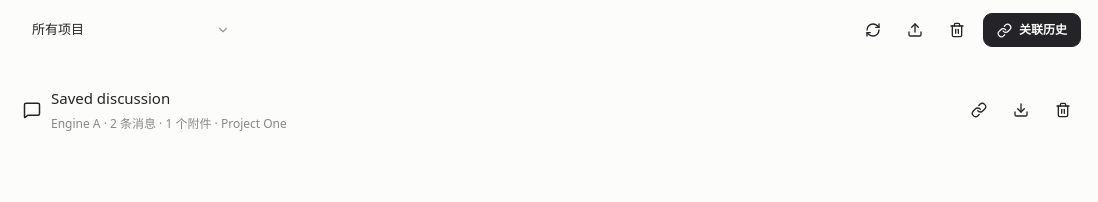
Scenario: filters the archive library through the custom picker with keyboard selection
Expected: the button "Saved discussion" is shown, left=51, top=87, right=170, bottom=110
Click the dropdown labelled "项目": point(131, 30) left=21, top=12, right=241, bottom=48
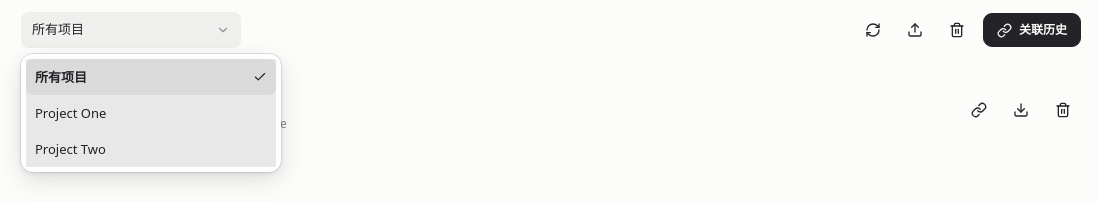
Press End Enter
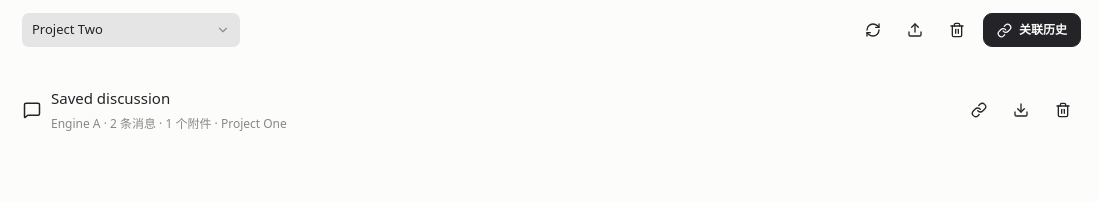
Result: the dropdown named "项目" reads "Project Two" at left=21, top=12, right=241, bottom=48
Result: the list is gone
